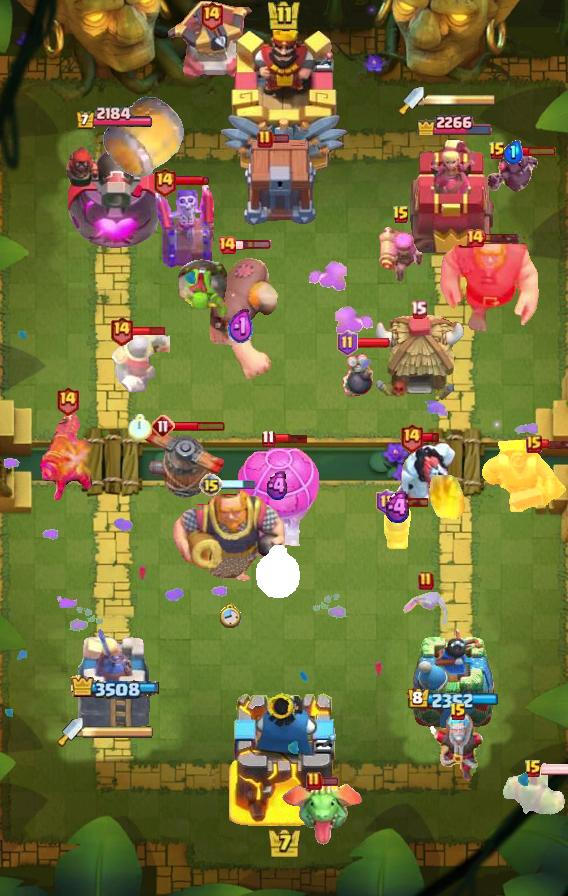balloon: (203, 242, 279, 382), (438, 236, 540, 334)
bar: (409, 138, 497, 256), (75, 623, 153, 731)
bar-level: (177, 258, 231, 320)
barbarian: (402, 592, 450, 628)
battle-ram: (483, 148, 543, 196)
bomb: (241, 140, 319, 226)
cannon-cart: (234, 441, 322, 549)
dark-prince: (133, 422, 231, 504)
dirt: (101, 93, 187, 181)
electro-spirit: (228, 308, 254, 347), (383, 491, 413, 524), (264, 471, 292, 501), (503, 140, 523, 164)
electro-wizard: (281, 783, 365, 845)
elixir: (255, 545, 301, 599), (128, 415, 152, 442), (219, 602, 242, 628)
emote: (504, 145, 557, 157), (174, 420, 227, 432), (484, 232, 521, 244), (235, 239, 272, 251), (174, 175, 210, 187), (355, 337, 391, 349), (220, 479, 256, 491), (394, 496, 430, 508), (133, 325, 168, 337), (273, 432, 309, 443), (540, 438, 568, 450), (540, 763, 568, 775), (320, 777, 340, 788), (271, 133, 290, 144), (420, 432, 439, 443)
executioner: (382, 499, 414, 551)
firecracker: (111, 328, 170, 394)
flying-machine: (500, 767, 568, 823)
giant-skeleton: (171, 484, 287, 584)
goblin-hut: (482, 440, 568, 512)
ice-golem: (340, 344, 376, 402)
king-tower: (219, 23, 349, 181), (226, 688, 342, 826)
king-tower-bar: (424, 93, 496, 107), (83, 725, 155, 739)
lava-pup: (167, 0, 255, 82)
mega-minion: (39, 412, 95, 504)
mortar: (415, 711, 501, 783)
prince: (371, 313, 465, 403)
queen-tower: (411, 627, 495, 731)
rage: (393, 441, 457, 507)
selected: (69, 675, 159, 700), (407, 688, 499, 712), (414, 109, 492, 135), (74, 105, 154, 130)
skeleton-king-bar: (152, 179, 214, 269)
text: (199, 0, 224, 31), (110, 315, 135, 346), (55, 385, 80, 416), (399, 422, 424, 453), (151, 167, 176, 197), (151, 414, 175, 438), (199, 473, 223, 497), (337, 330, 359, 356), (375, 489, 396, 515), (465, 228, 485, 248), (217, 235, 237, 255), (488, 141, 506, 161), (392, 205, 410, 225), (449, 702, 467, 722), (524, 759, 542, 779), (257, 129, 273, 149), (418, 571, 434, 591), (306, 771, 322, 791), (409, 301, 426, 319), (526, 435, 542, 453), (261, 428, 275, 447)
tombstone: (379, 225, 426, 283)
tower-bar: (60, 132, 167, 256)
valkyrie: (426, 475, 466, 523)
